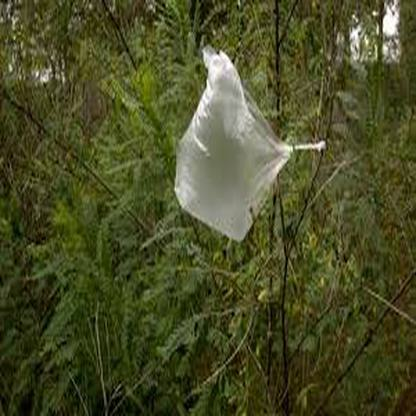plastic bag: (172, 47, 326, 240)
